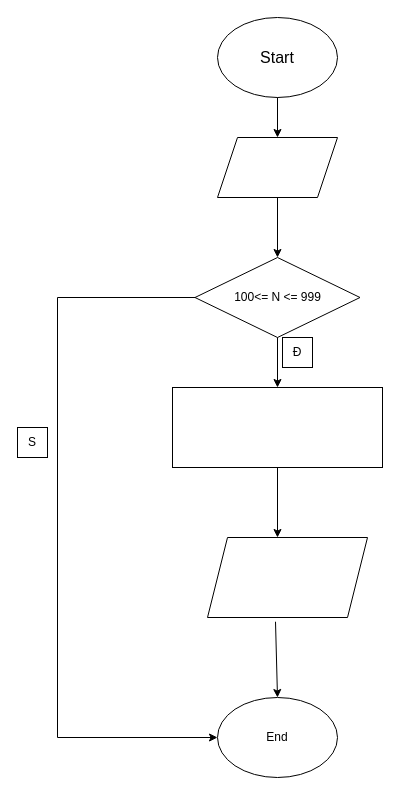
The diagram is 400 pixels wide and 795 high, and some of its shapes have lost their labels. The shapes that lost their labels are listed below. From the top down, each one's centre as x and y in pixels, then its label:
the point at 277,167: Nhập N
the point at 277,427: N / 100 = C N % 100 = temp temp / 10 = B temp % 10 = A A*100 + B*10 + C = kq
the point at 287,577: In kq
